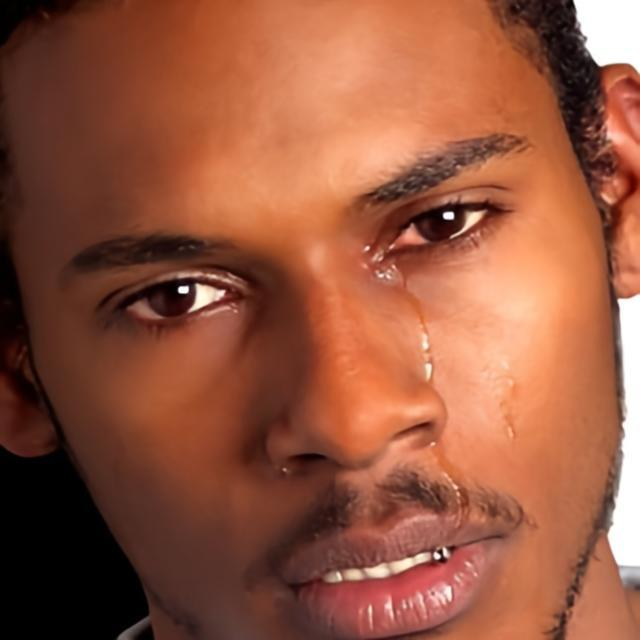anger: (6, 4, 624, 640)
